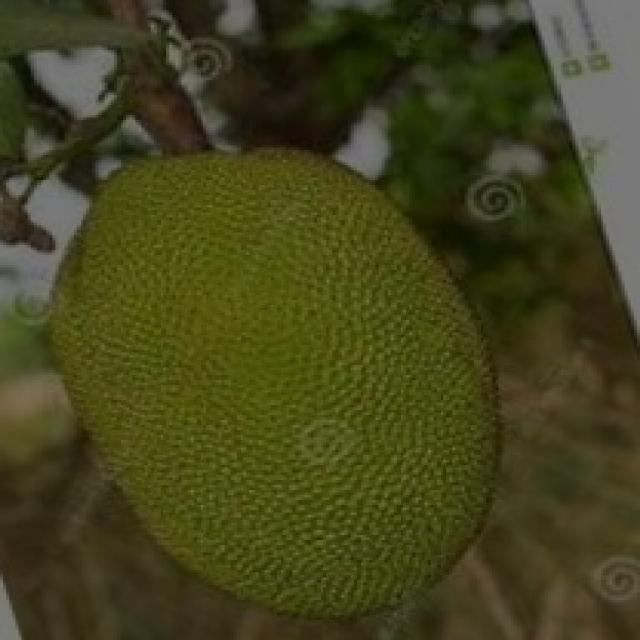Fruit: (268, 225, 575, 640)
